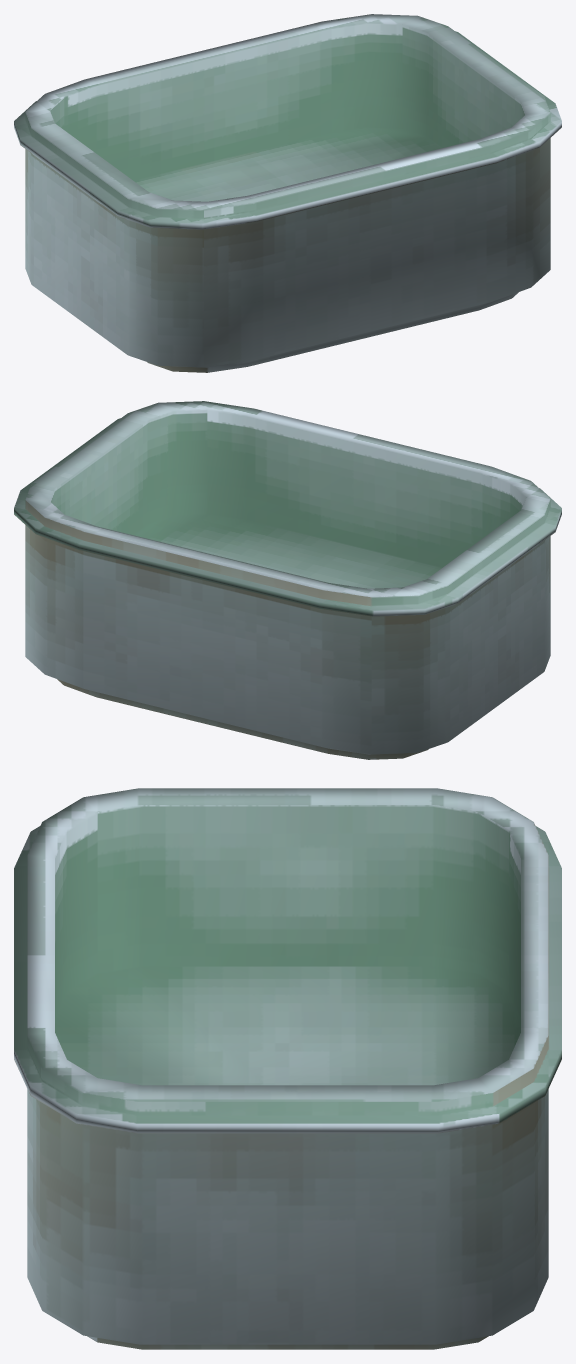
Rendered from tub3.fbx.
3 views of the same model, one above another, from view 1: azimuth 30°, elevation 25°; view 2: azimuth 150°, elevation 25°; view 3: azimuth 270°, elevation 25° (orthographic). The views are drawn at different scales.
Parts seen in each view (by area): view 1: Tub3; view 2: Tub3; view 3: Tub3.
Part boxes in pixels (box(x1,y1,x2,y2)): Tub3: box(14, 14, 561, 372); Tub3: box(14, 401, 561, 759); Tub3: box(14, 788, 561, 1349).
Bounding box in the file's own units: 210 × 78.44 × 148.
